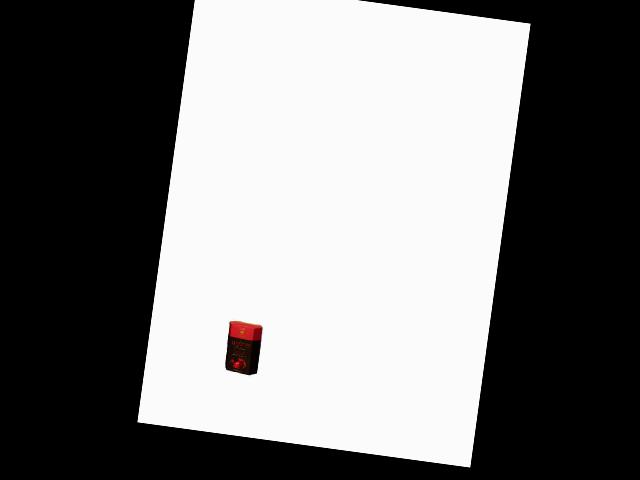chocolate: (221, 318, 265, 381)
